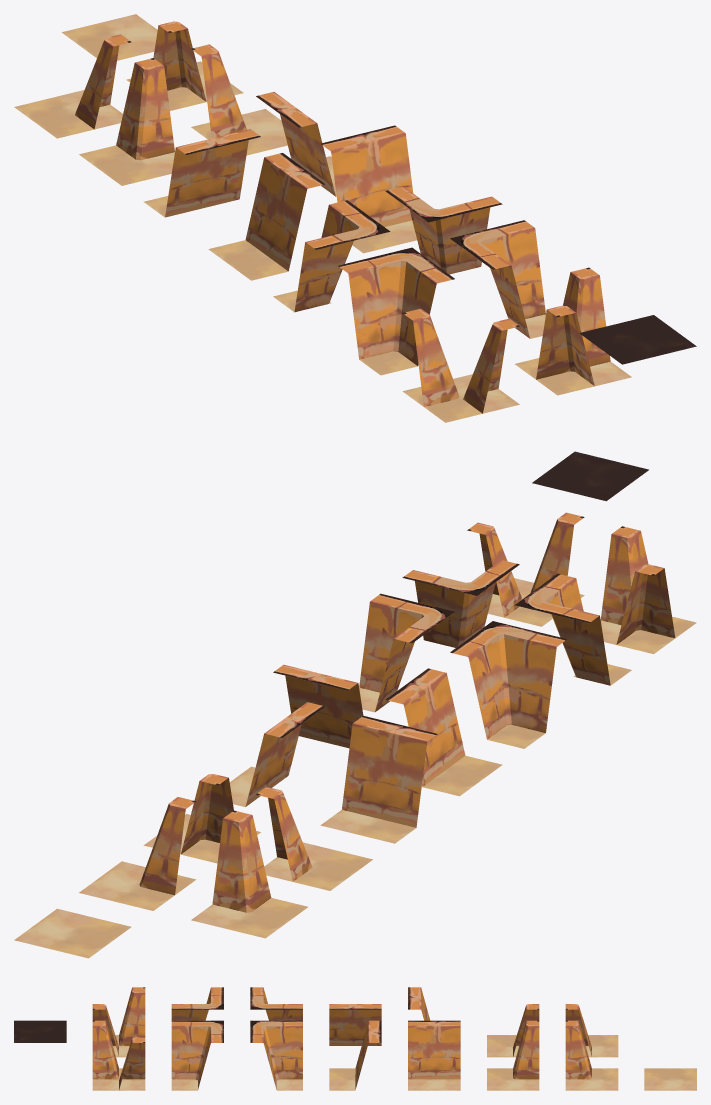
Rendered from squares_of_cells.glb.
3 renders of one model, top to bottom at view 1: azimuth 30°, elevation 25°; view 2: azimuth 150°, elevation 25°; view 3: azimuth 270°, elevation 25°, orthographic. The views are drawn at different scales.
Visible parts, largest first — view 1: SoC_0100, SoC_0101, SoC_1001, SoC_1100, SoC_0110, SoC_1101, SoC_0001, SoC_1010, SoC_1000, SoC_1110, SoC_0010, SoC_0111 (+4 smaller); view 2: SoC_1010, SoC_1000, SoC_0110, SoC_1110, SoC_1100, SoC_0010, SoC_1011, SoC_0100, SoC_1101, SoC_0001, SoC_1001, SoC_0101 (+4 smaller); view 3: SoC_0011, SoC_0001, SoC_0010, SoC_1001, SoC_1011, SoC_0111, SoC_1100, SoC_0110, SoC_0101, SoC_1111, SoC_0000, SoC_1110 (+4 smaller).
Part boxes in pixels (x1=…): SoC_0100: x1=338, y1=247, x2=454, y2=375; SoC_0101: x1=320, y1=125, x2=416, y2=253; SoC_1001: x1=515, y1=267, x2=631, y2=395; SoC_1100: x1=208, y1=153, x2=325, y2=280; SoC_0110: x1=402, y1=308, x2=519, y2=422; SoC_1101: x1=79, y1=58, x2=174, y2=185; SoC_0001: x1=450, y1=220, x2=545, y2=338; SoC_1010: x1=143, y1=129, x2=260, y2=217; SoC_1000: x1=273, y1=200, x2=390, y2=312; SoC_1110: x1=14, y1=34, x2=131, y2=138; SoC_0010: x1=385, y1=186, x2=502, y2=274; SoC_0111: x1=191, y1=44, x2=287, y2=155; SoC_1010: x1=320, y1=715, x2=437, y2=843; SoC_1000: x1=450, y1=621, x2=566, y2=748; SoC_0110: x1=600, y1=526, x2=696, y2=653; SoC_1110: x1=191, y1=810, x2=307, y2=938; SoC_1100: x1=385, y1=668, x2=502, y2=796; SoC_0010: x1=359, y1=593, x2=454, y2=712; SoC_1011: x1=79, y1=797, x2=196, y2=910; SoC_0100: x1=514, y1=573, x2=631, y2=685; SoC_1101: x1=256, y1=787, x2=372, y2=890; SoC_0001: x1=402, y1=560, x2=519, y2=647; SoC_1001: x1=467, y1=512, x2=584, y2=626; SoC_0101: x1=273, y1=664, x2=363, y2=748; SoC_0011: x1=408, y1=1020, x2=460, y2=1090; SoC_0001: x1=171, y1=1020, x2=223, y2=1090; SoC_0010: x1=250, y1=1020, x2=302, y2=1090; SoC_1001: x1=92, y1=1020, x2=145, y2=1090; SoC_1011: x1=565, y1=1020, x2=618, y2=1090; SoC_0111: x1=487, y1=1020, x2=539, y2=1090; SoC_1100: x1=329, y1=1004, x2=381, y2=1045; SoC_0110: x1=92, y1=987, x2=145, y2=1057; SoC_0101: x1=329, y1=1020, x2=381, y2=1090; SoC_1111: x1=644, y1=1068, x2=696, y2=1090; SoC_0000: x1=14, y1=1020, x2=66, y2=1042; SoC_1110: x1=565, y1=1004, x2=618, y2=1057.
Size of the model in its own units: 2.5 by 1 by 13.
Materials: 2 (2 with a texture image).
